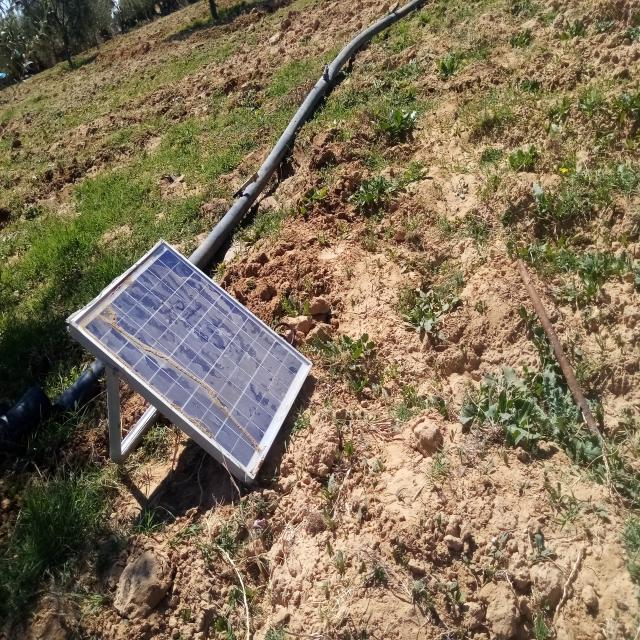faulty: (72, 240, 313, 477)
